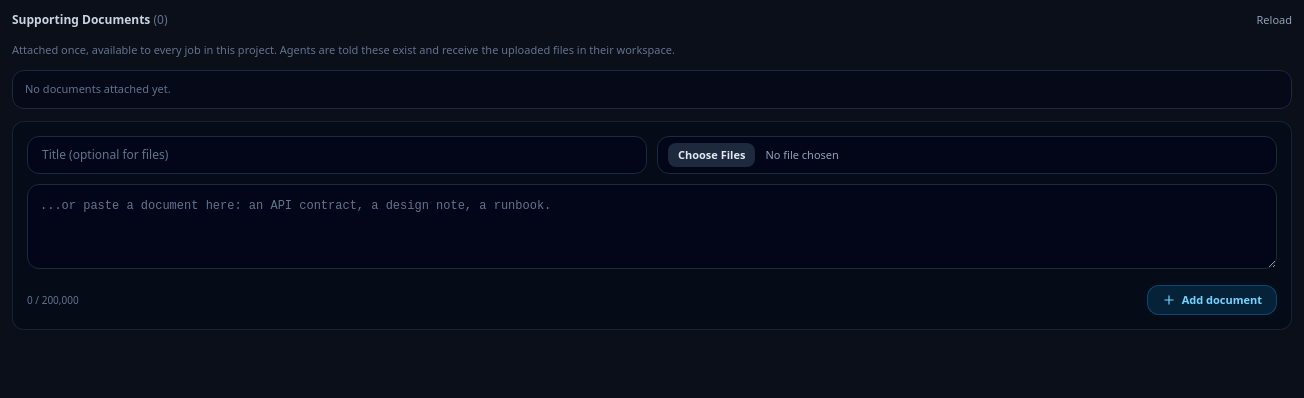
Test case: ProjectDocumentsSection › keeps the composer when the add fails
Expected: the text "No documents attached yet." is shown, [12,70,1292,109]
Replace the text in the text box with placeholder "paste a document here" with "long pasted spec". click: {"x": 652, "y": 227}
box: [27,184,1277,269]
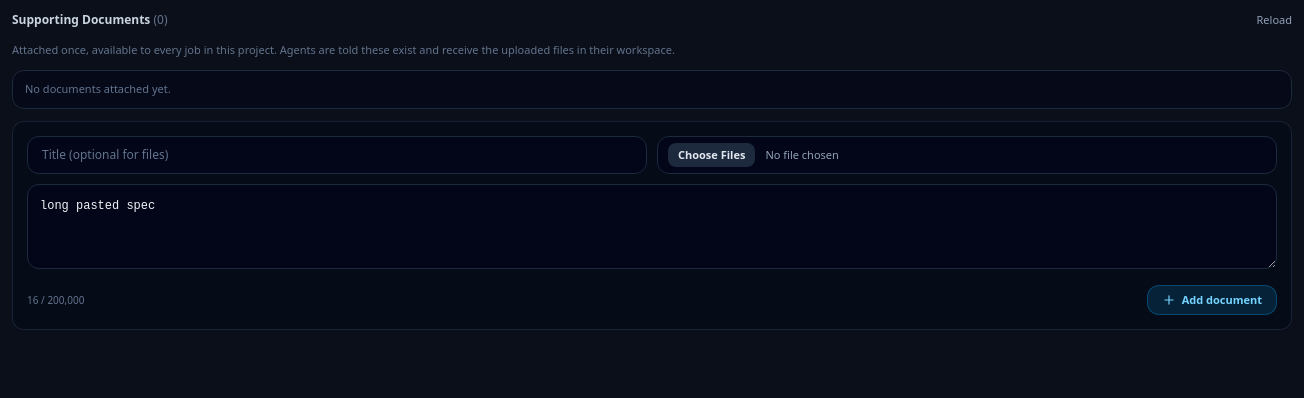
Click the button "Add document". click: {"x": 1212, "y": 300}
box: [1147,285,1277,315]
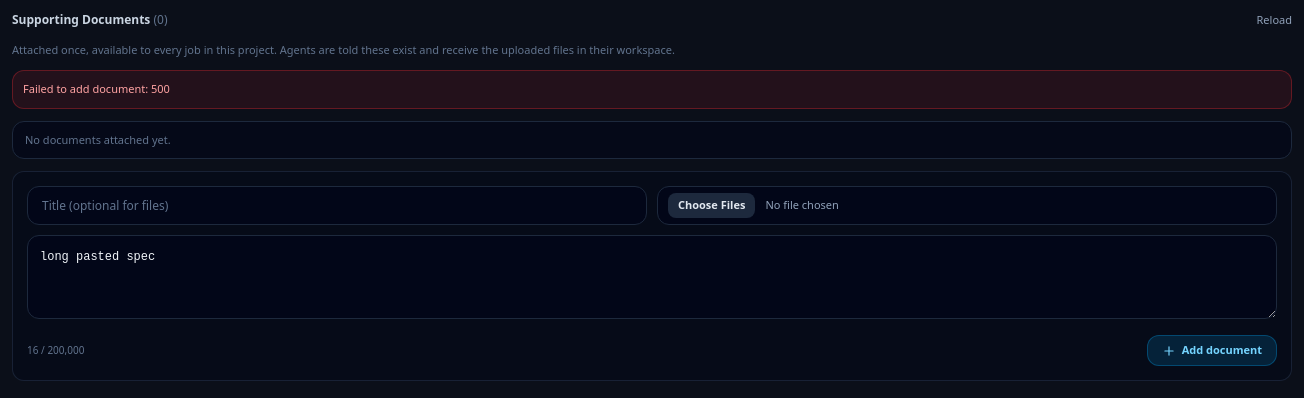
Result: the text "Failed to add document: 500" is shown at [12,70,1292,109]
